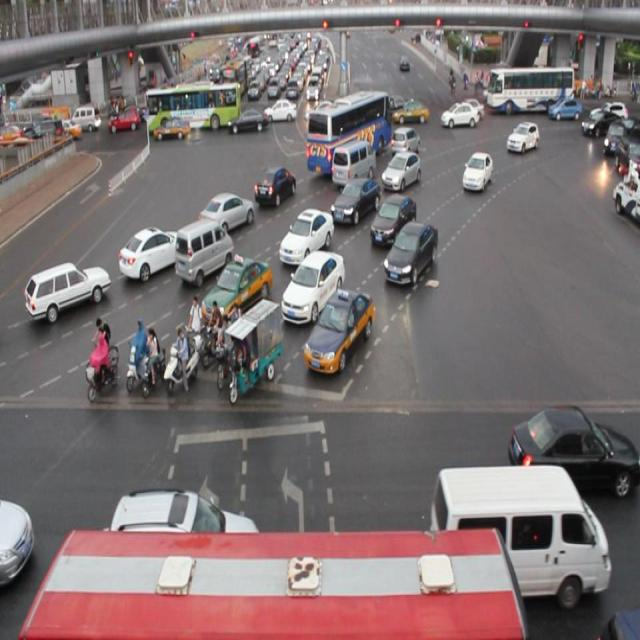car: (508, 404, 640, 500), (110, 487, 261, 555), (302, 289, 375, 376), (25, 262, 109, 323), (202, 256, 273, 326), (281, 248, 346, 324), (118, 226, 188, 281), (382, 220, 438, 285), (1, 492, 35, 588), (278, 207, 335, 264), (199, 191, 255, 236), (329, 178, 382, 224), (369, 194, 415, 246), (254, 166, 296, 207), (381, 151, 420, 192), (460, 152, 492, 192), (506, 119, 538, 154), (391, 125, 420, 154)
truck: (430, 463, 610, 602), (176, 221, 234, 284), (331, 142, 376, 186)
van: (21, 522, 525, 640), (307, 90, 392, 174)
